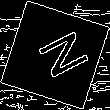N_SW: (24, 26, 86, 84)
